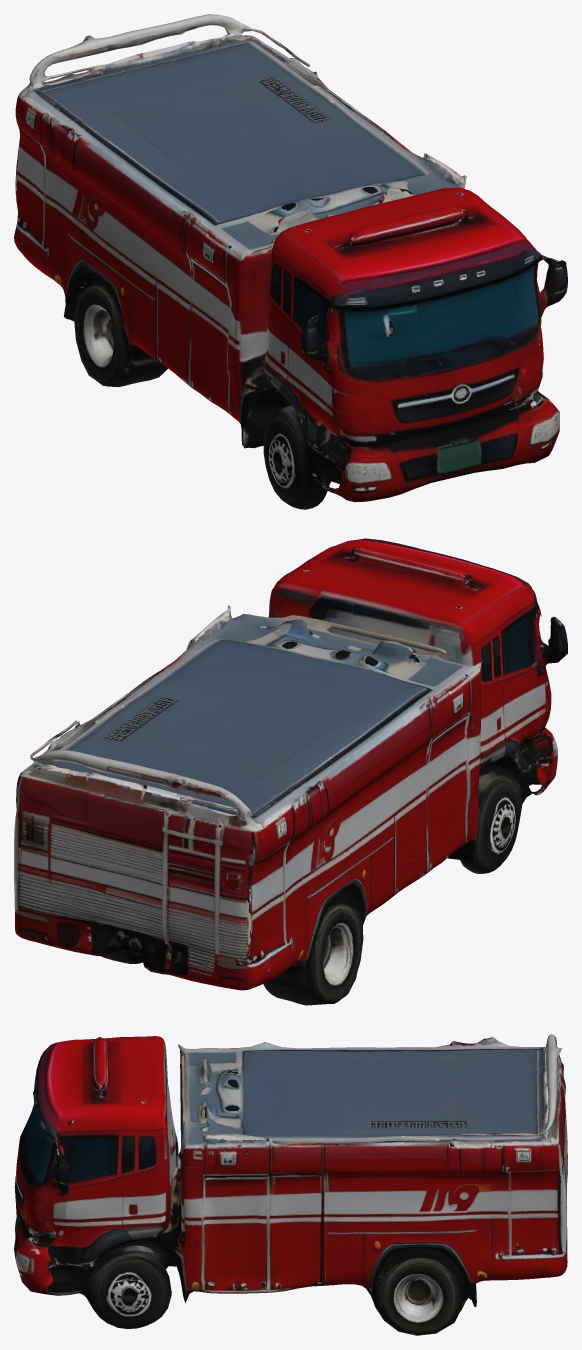
File: fire1.fbx
3 views of the same model, one above another, from view 1: azimuth 30°, elevation 25°; view 2: azimuth 150°, elevation 25°; view 3: azimuth 270°, elevation 25° (orthographic). The views are drawn at different scales.
Visible parts, largest first — view 1: Retopo_vrin_node_4706916b-bbdb-444a-941e-173f0f9db87c.003; view 2: Retopo_vrin_node_4706916b-bbdb-444a-941e-173f0f9db87c.003; view 3: Retopo_vrin_node_4706916b-bbdb-444a-941e-173f0f9db87c.003.
Part boxes in pixels (<box>): Retopo_vrin_node_4706916b-bbdb-444a-941e-173f0f9db87c.003: <box>14,14,567,509</box>; Retopo_vrin_node_4706916b-bbdb-444a-941e-173f0f9db87c.003: <box>14,538,567,1005</box>; Retopo_vrin_node_4706916b-bbdb-444a-941e-173f0f9db87c.003: <box>14,1034,567,1335</box>.
Bounding box in the file's own units: 46.55 × 45.77 × 99.18.
Materials: 1 (1 with a texture image).
